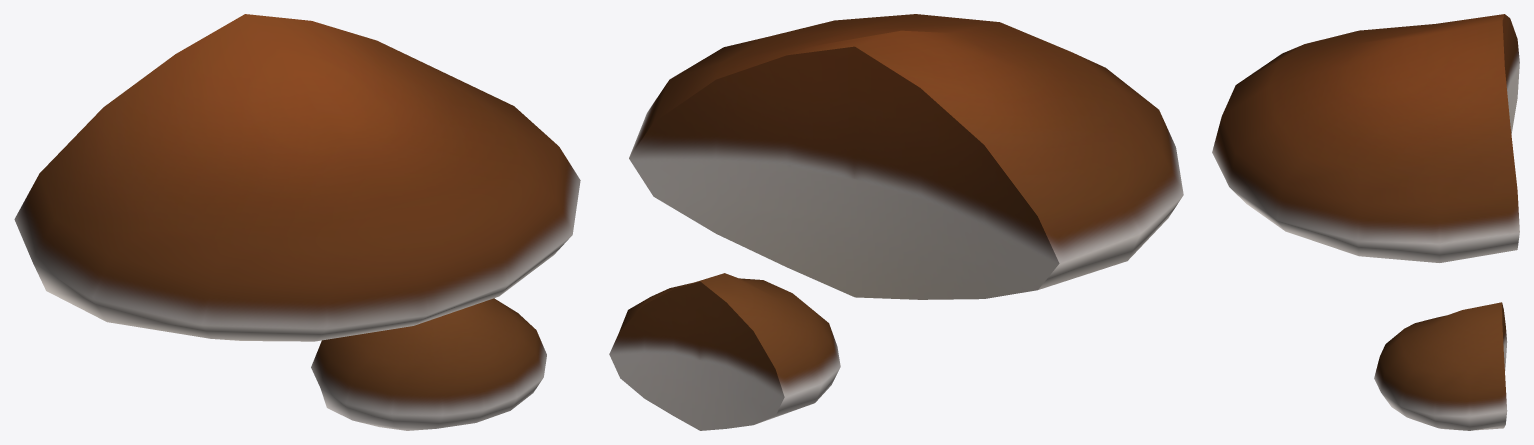
The model's file is Artists_Conk_Group_1.fbx.
3 renders of one model, left to right at view 1: azimuth 30°, elevation 25°; view 2: azimuth 150°, elevation 25°; view 3: azimuth 270°, elevation 25°, orthographic. The views are drawn at different scales.
Visible parts, largest first — view 1: Artists_Conk_Group_1; view 2: Artists_Conk_Group_1; view 3: Artists_Conk_Group_1.
Boxes of the visible parts, <box> form: Artists_Conk_Group_1: <box>14,14,580,430</box>; Artists_Conk_Group_1: <box>609,14,1183,430</box>; Artists_Conk_Group_1: <box>1212,14,1519,430</box>.
Size of the model in its own units: 15.48 by 12.41 by 10.15.
